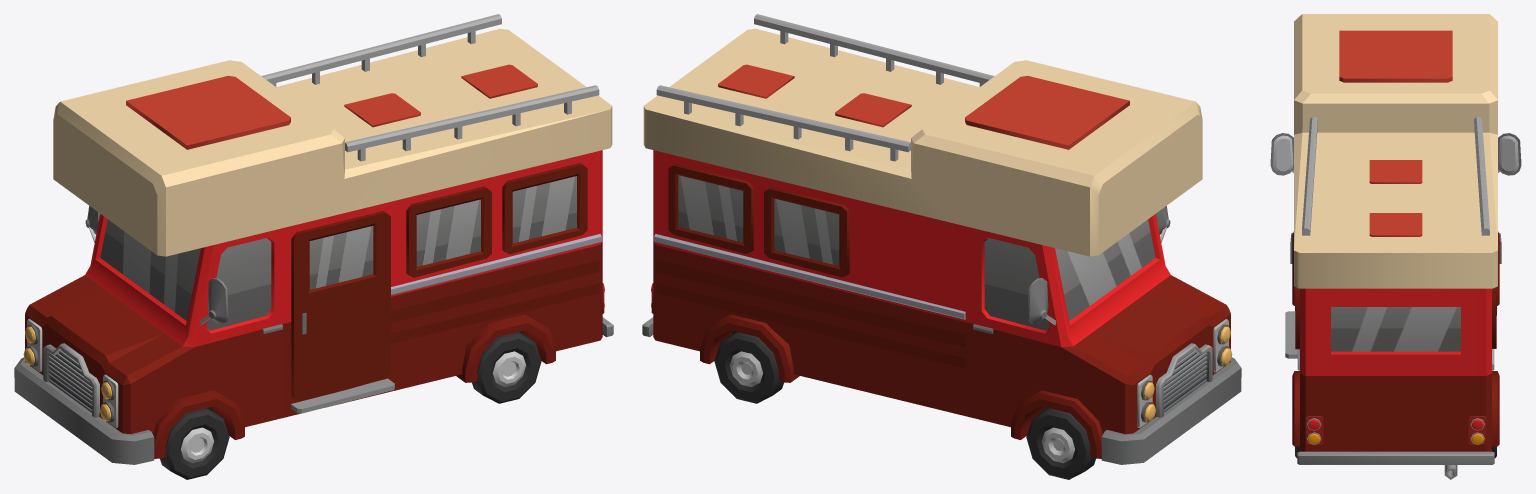
File: RVCar_G.gltf
3 views of the same model, side by side, from view 1: azimuth 30°, elevation 25°; view 2: azimuth 150°, elevation 25°; view 3: azimuth 270°, elevation 25° (orthographic). The views are drawn at different scales.
Parts seen in each view (by area): view 1: RVCar_G, RL, FL; view 2: RVCar_G, RR, FR; view 3: RVCar_G.
Part boxes in pixels (<box>): RVCar_G: <box>14,14,613,464</box>; RL: <box>472,332,541,403</box>; FL: <box>160,408,229,479</box>; RVCar_G: <box>642,14,1241,464</box>; RR: <box>714,332,783,403</box>; FR: <box>1026,408,1095,479</box>; RVCar_G: <box>1270,14,1521,479</box>.
Bounding box in the file's own units: 4.14 × 2.46 × 1.94.
Materials: 4 (4 with a texture image).
